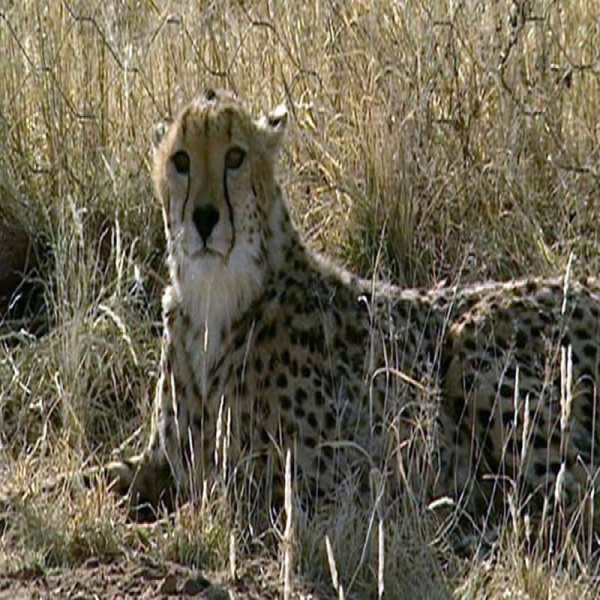Cheetah: (55, 86, 599, 548)
